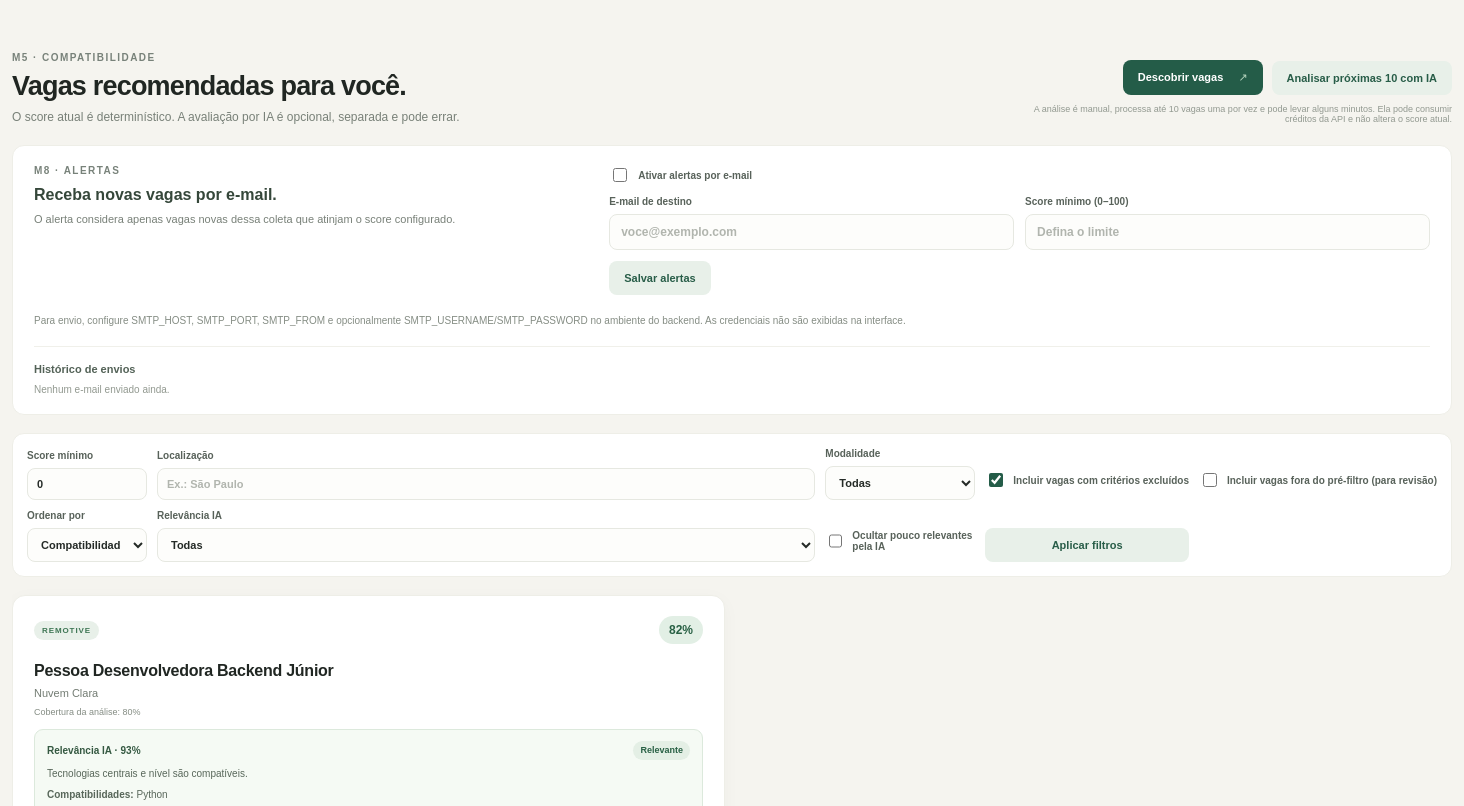
Test: recomendações de vagas M5 › mostra erros por provider sem ocultar sucesso parcial nem resultados válidos
This screenshot has width=1464, height=806.
What coordinates should you click on to do the following:
click the button "Descobrir vagas ↗"
I would click on:
 (1193, 78)
Its box is [1123,60,1263,95].
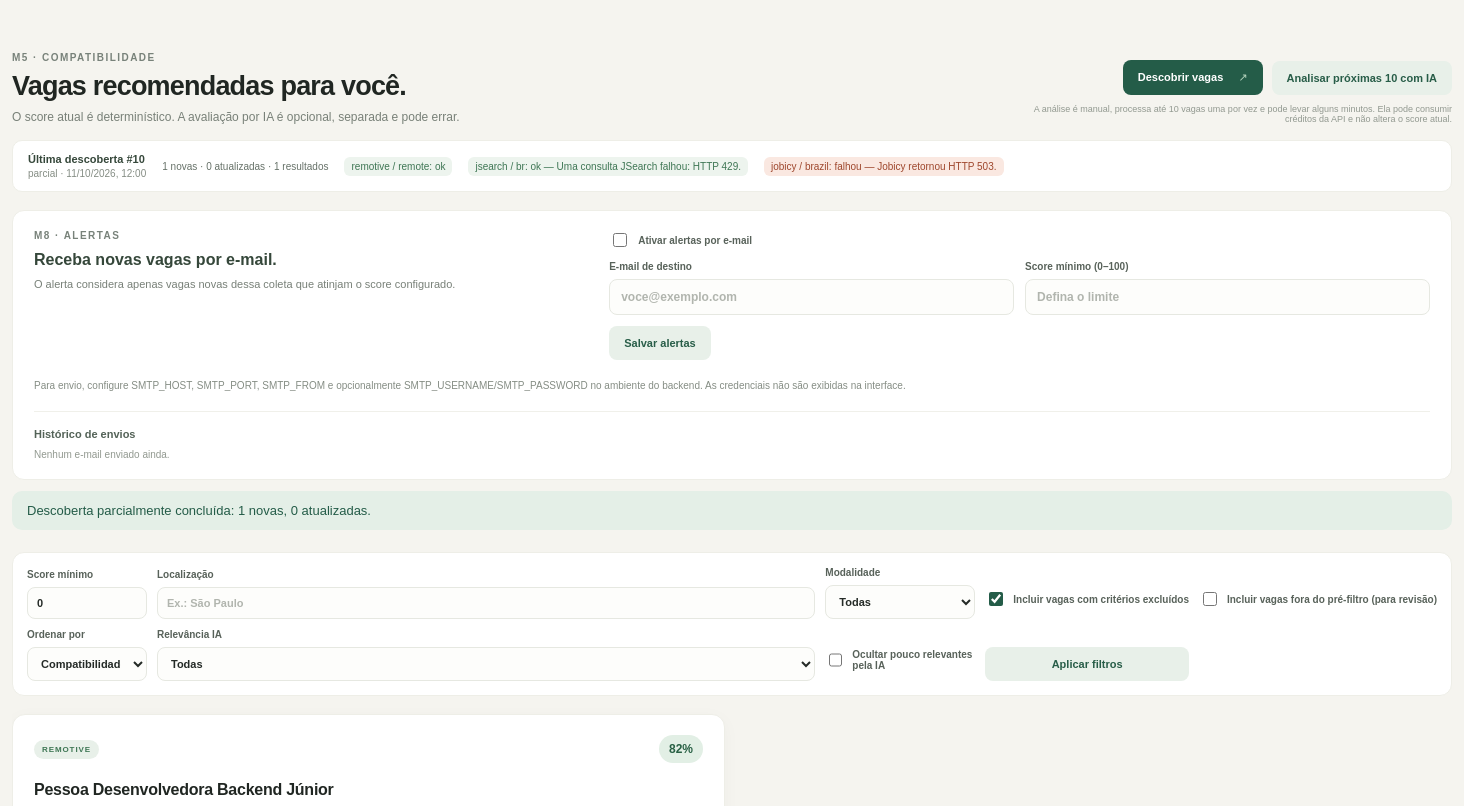
Now the element labelled "Última descoberta" shows "parcial", box [28,168,58,179]
Now the element labelled "Última descoberta" shows "1 novas · 0 atualizadas · 1 resultados", box [12,140,1452,192]
Now the element labelled "Última descoberta" shows "remotive / remote: ok", box [12,140,1452,192]
